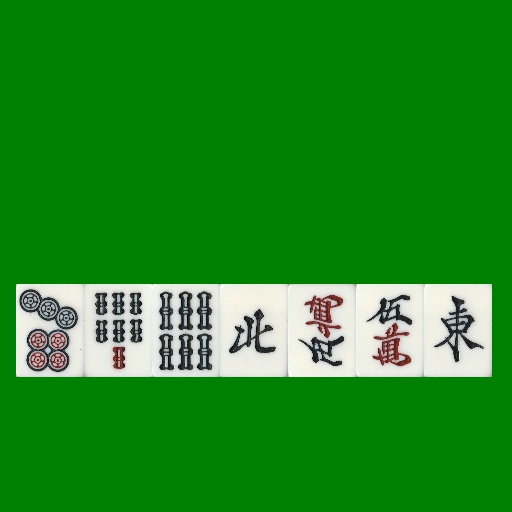5m: (288, 284, 356, 377), (356, 284, 424, 377)
6s: (152, 284, 220, 377)
7p: (16, 284, 84, 377)
7s: (84, 284, 152, 377)
east: (424, 284, 492, 377)
north: (220, 284, 288, 377)
